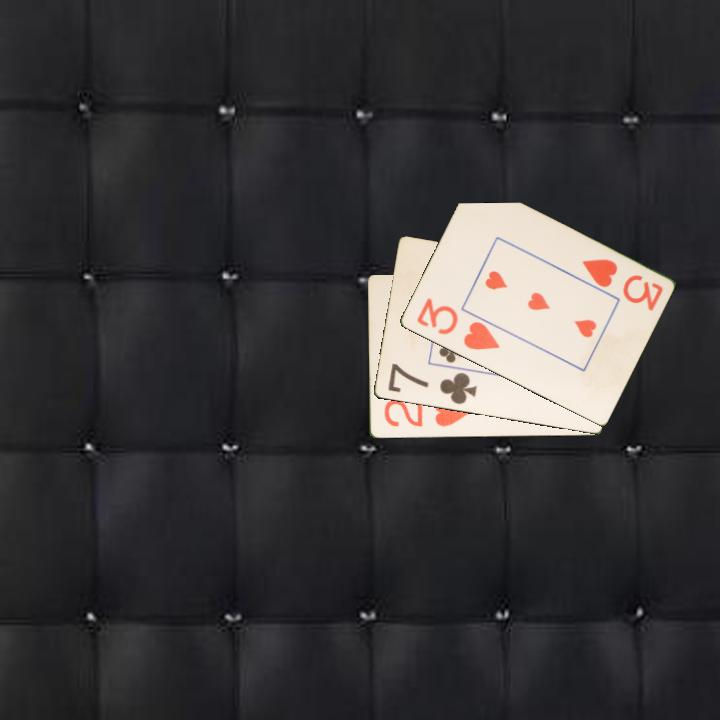2h: (381, 396, 473, 430)
3h: (413, 294, 502, 353), (578, 255, 666, 314)
7c: (384, 360, 480, 408)
